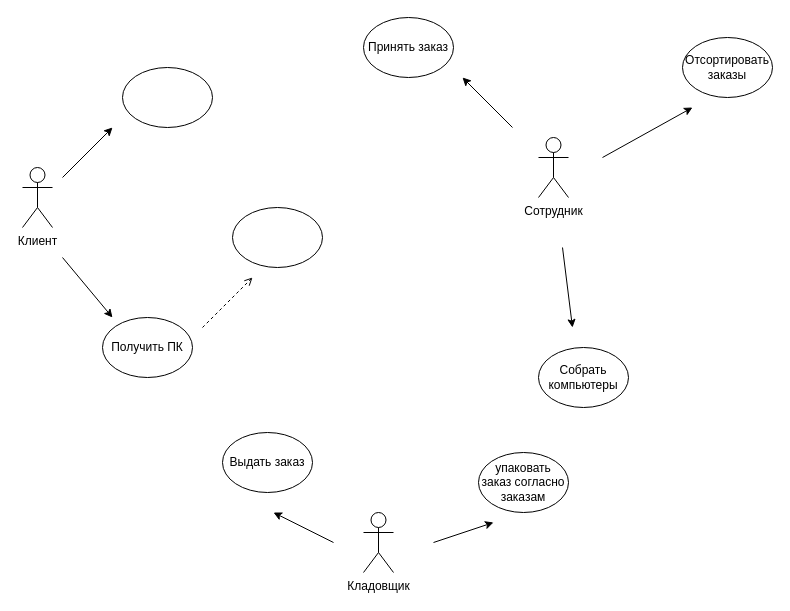
This 790x611 diagram has some shape labels left out. Here are the shapes that lost their labels. From the top down, the box of each, then its label:
(122, 66, 212, 128): Заказать ПК
(232, 206, 322, 268): (Опционально) заплатить
